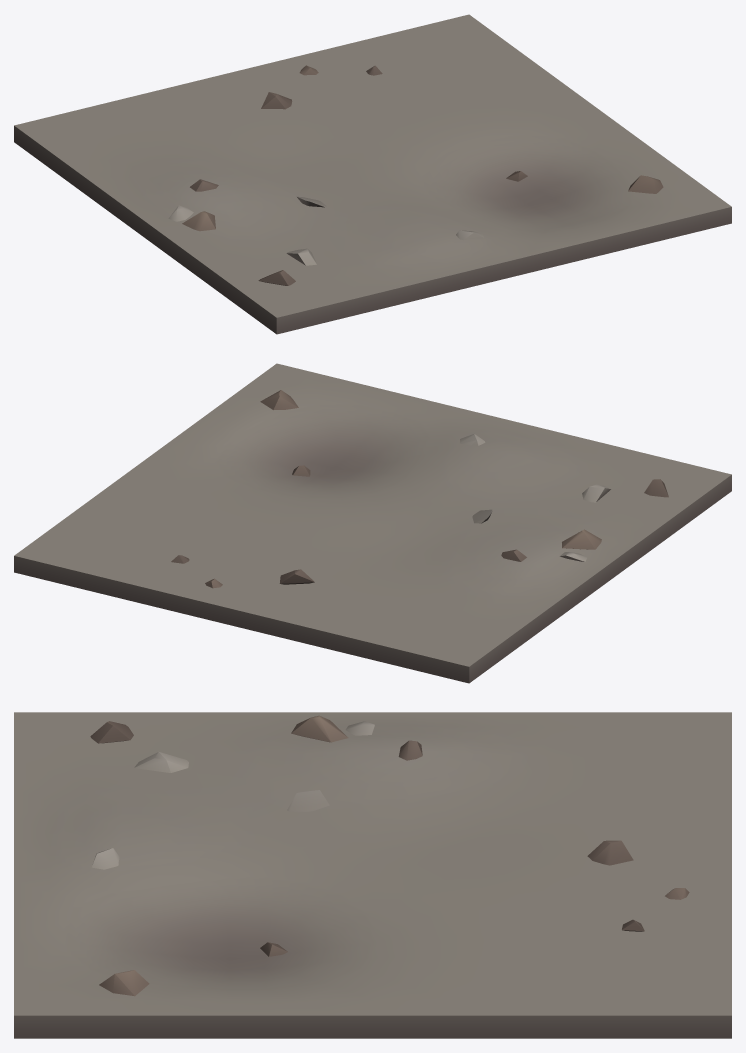
The model's file is floor_cave_large_A.glb.
The picture shows the model from 3 angles, top to bottom: view 1: azimuth 30°, elevation 25°; view 2: azimuth 150°, elevation 25°; view 3: azimuth 270°, elevation 25°; orthographic projection. The views are drawn at different scales.
Parts seen in each view (by area): view 1: Item; view 2: Item; view 3: Item.
Boxes of the visible parts, bbox=[...] form: Item: bbox=[14, 14, 731, 334]; Item: bbox=[14, 363, 731, 683]; Item: bbox=[14, 712, 731, 1038].
Size of the model in its own units: 4 by 0.2679 by 4.
1 material, 1 textured.
